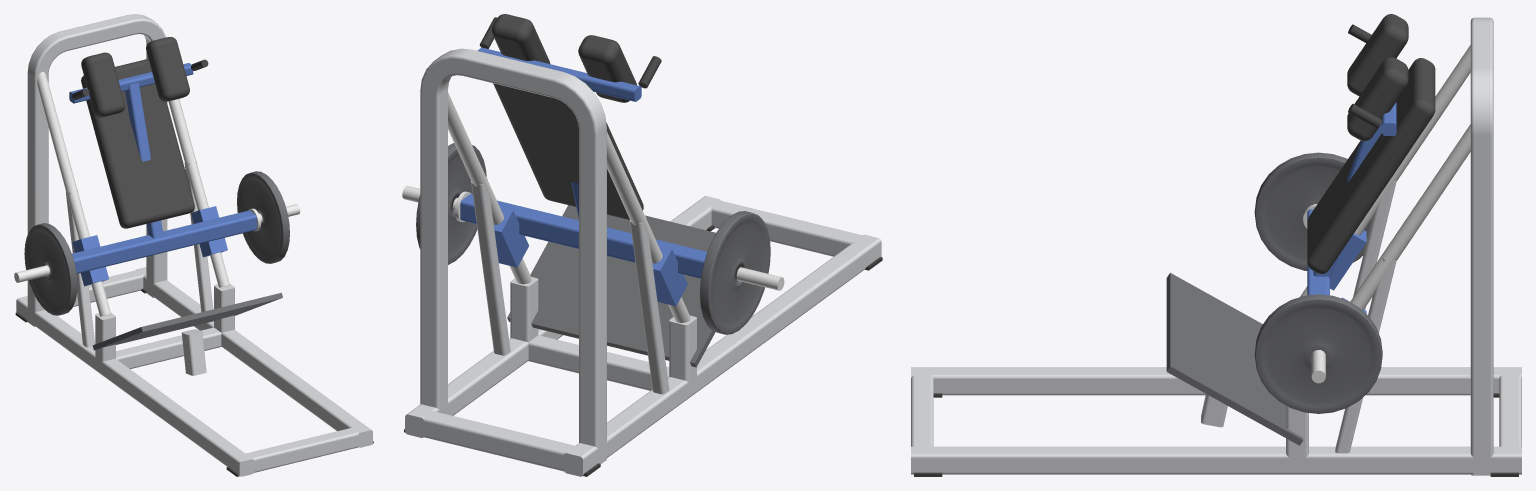
3 views of the same model, side by side, from view 1: azimuth 30°, elevation 25°; view 2: azimuth 150°, elevation 25°; view 3: azimuth 270°, elevation 25° (orthographic). The views are drawn at different scales.
Visible parts, largest first — view 1: base, backrest_pad, carriage, rear_arch_tube, frame, rail (×2), shoulder_pad (×2), carriage_beam, foot_plate, carriage_slider (×2), plate_horn; view 2: base, rear_arch_tube, foot_plate, carriage, frame, backrest_pad, carriage_beam, shoulder_pad (×2), rail (×2), carriage_slider (×2), plate_horn; view 3: base, carriage, rear_arch_tube, foot_plate, backrest_pad, rail (×2), shoulder_pad (×2), frame, carriage_slider.
Boxes of the visible parts, box(x1,y1,x2,y2) form: base: box(15, 267, 373, 476); backrest_pad: box(81, 59, 194, 228); carriage: box(24, 63, 289, 315); rear_arch_tube: box(27, 14, 167, 326); frame: box(65, 161, 234, 375); rail (×2): box(37, 71, 229, 316); shoulder_pad (×2): box(81, 37, 189, 117); carriage_beam: box(72, 210, 256, 273); foot_plate: box(92, 292, 282, 350); carriage_slider (×2): box(72, 206, 227, 286); plate_horn: box(14, 265, 49, 282); base: box(404, 196, 882, 476); rear_arch_tube: box(420, 48, 606, 463); foot_plate: box(507, 205, 715, 367); carriage: box(416, 47, 770, 334); frame: box(471, 177, 696, 394); backrest_pad: box(493, 83, 643, 219); carriage_beam: box(460, 194, 707, 278); shoulder_pad (×2): box(491, 14, 636, 102); rail (×2): box(448, 92, 690, 322); carriage_slider (×2): box(493, 207, 687, 306); plate_horn: box(736, 267, 784, 290); base: box(911, 367, 1521, 476); carriage: box(1254, 102, 1396, 413); rear_arch_tube: box(1470, 17, 1493, 475); foot_plate: box(1166, 272, 1303, 445); backrest_pad: box(1307, 58, 1435, 273); rail (×2): box(1300, 45, 1470, 310); shoulder_pad (×2): box(1347, 14, 1408, 140); frame: box(1201, 181, 1396, 465); carriage_slider: box(1330, 230, 1366, 290).
Size of the model in its own units: 1.56 by 1.51 by 2.15.
